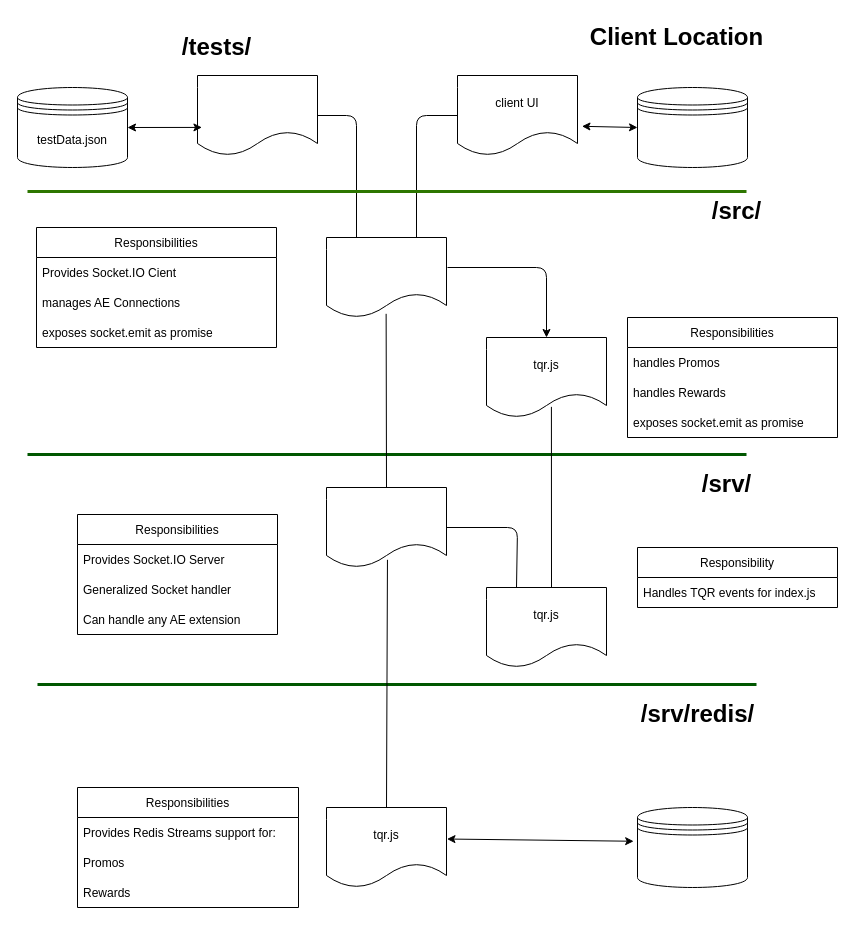
Some shapes in this 855 by 925 pixel diagram are drawn without their labels. Each missing label, with the centre of its shape:
"app.js" goes at [386,277].
"index.js" goes at [386,527].
"localStorage" goes at [692,127].
"Redis Streams" goes at [692,847].
"test.js" goes at [257,115].
